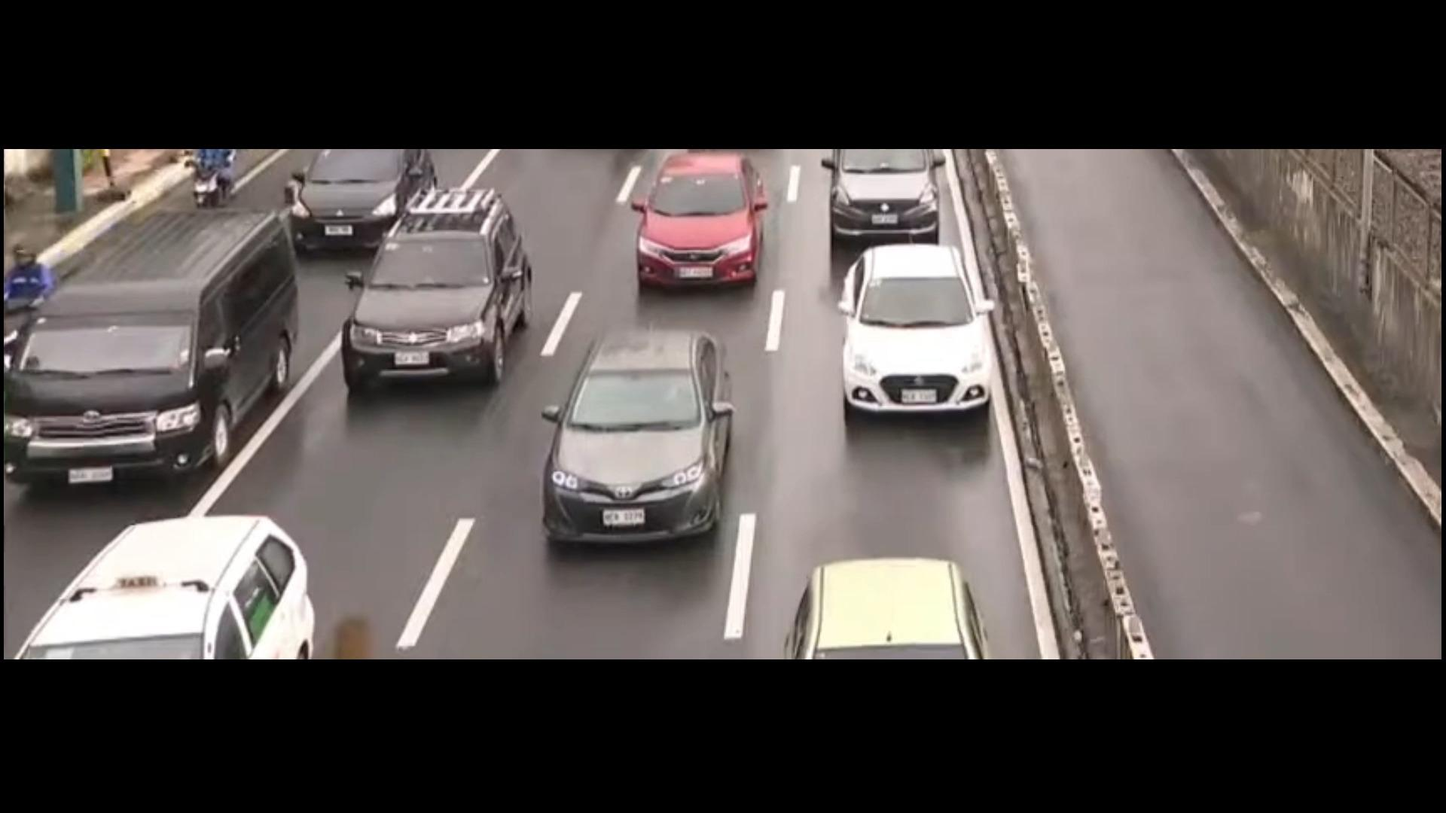Motorcycle: (0, 206, 66, 372), (181, 147, 232, 204)
SUV: (323, 174, 567, 413)
Sedan: (526, 320, 772, 552), (818, 226, 1004, 440), (618, 143, 782, 327), (273, 147, 448, 249), (812, 151, 978, 256)
Van: (0, 211, 315, 485)
